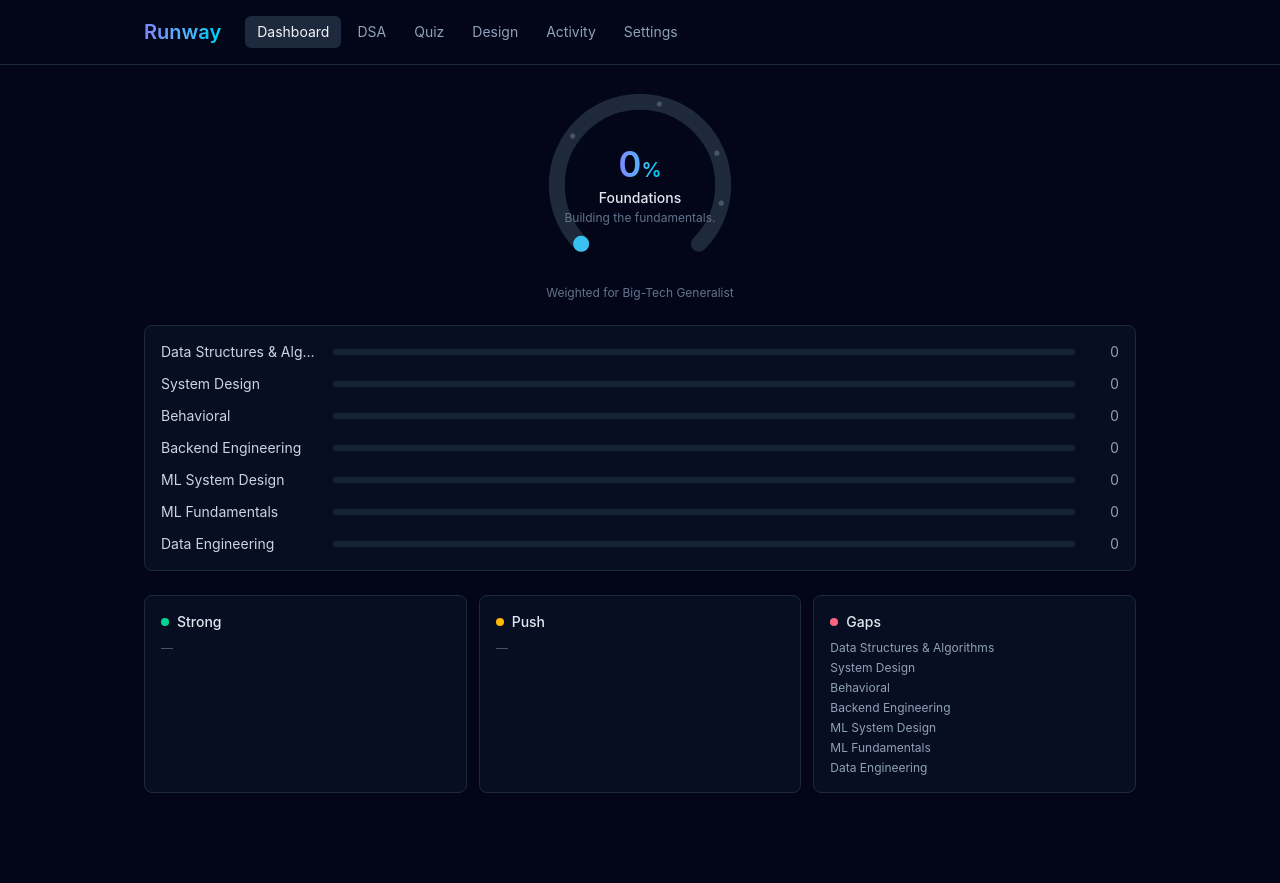
Scenario: App shell › changing the company in Settings re-weights the Dashboard (F1: immediately)
Click the button "Settings" at (651,32), box [612, 16, 690, 48]
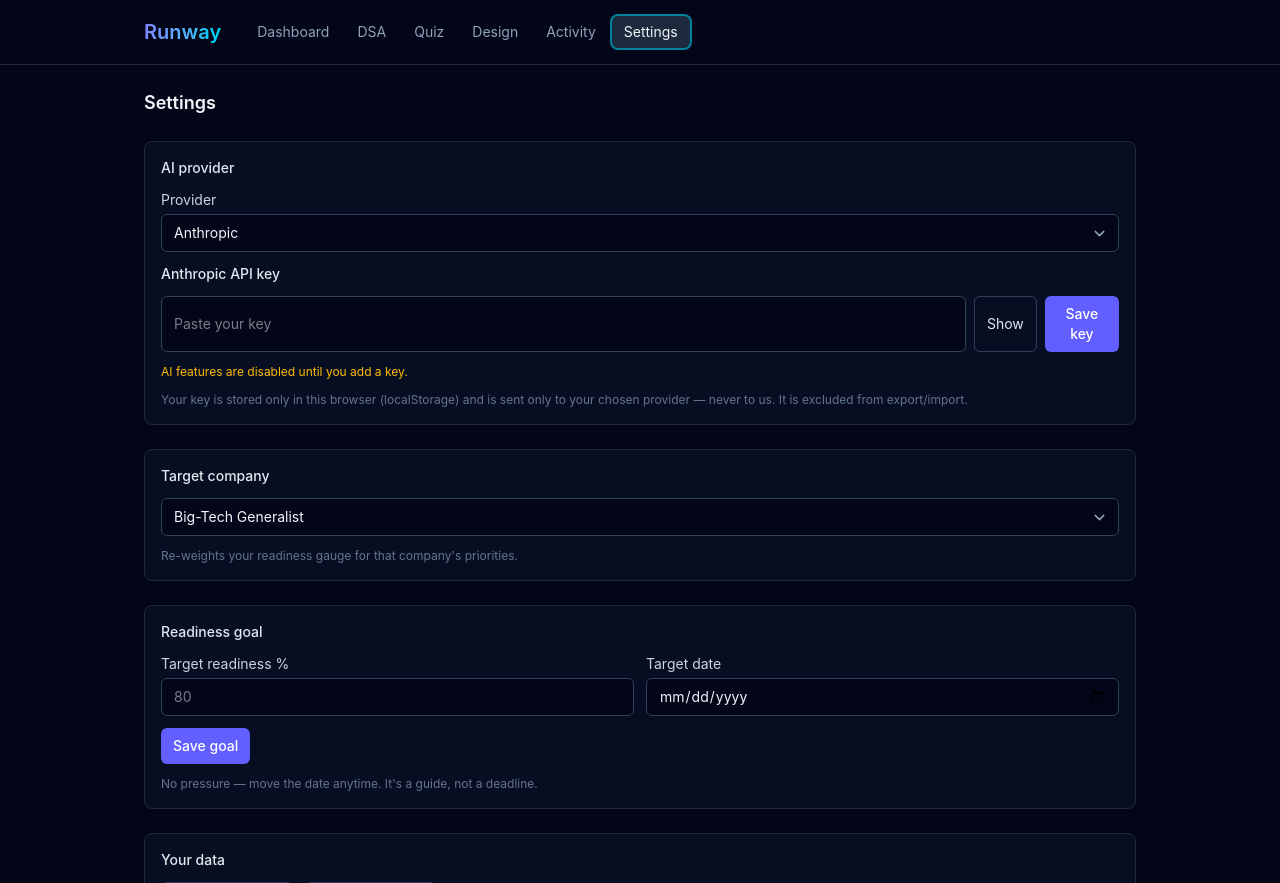
Select "ML-Heavy (AI product)" in the dropdown labelled "Target company" at (640,517), box [161, 498, 1119, 536]
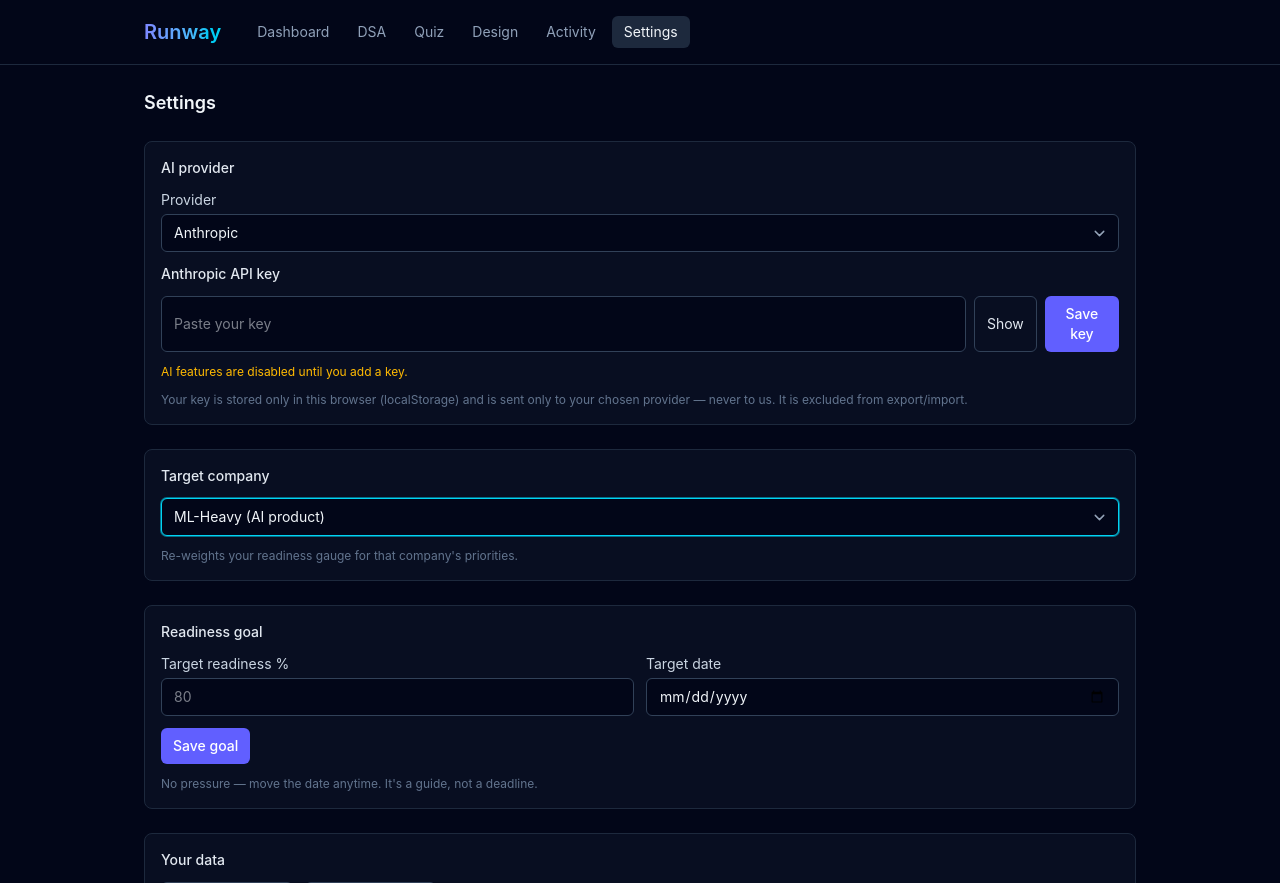
Click the button "Dashboard" at (293,32), box [245, 16, 341, 48]
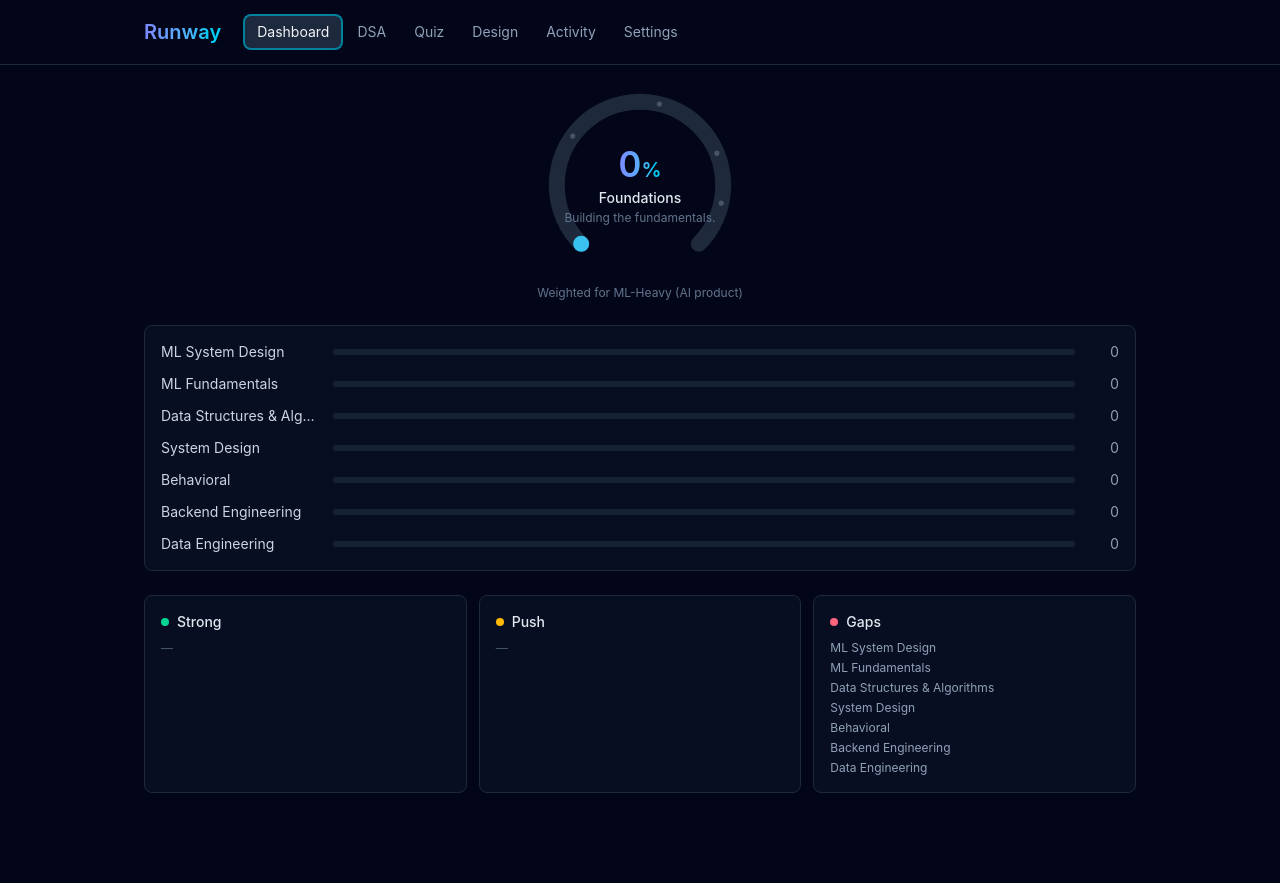
Expected: the list item "ML System Design 0" is shown, [161, 342, 1119, 362]
